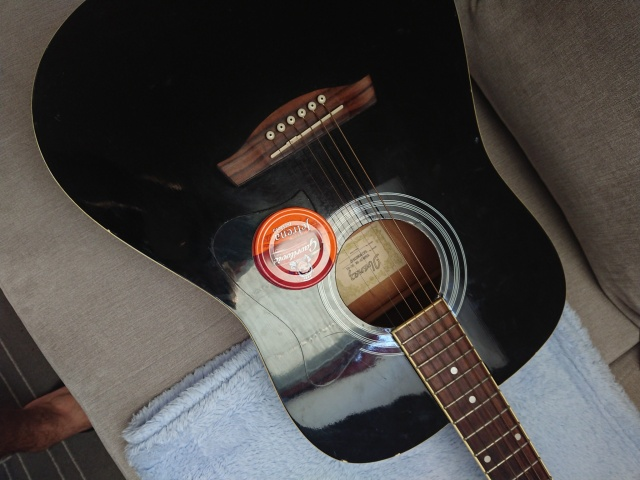Gavrilovic Pork Liver Pate 100g: (248, 204, 339, 292)
